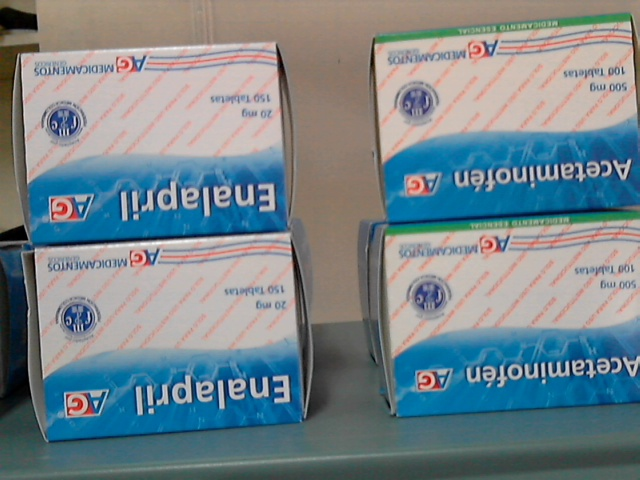AG: (39, 242, 303, 439), (378, 17, 640, 214), (20, 45, 285, 237), (389, 215, 640, 414)
